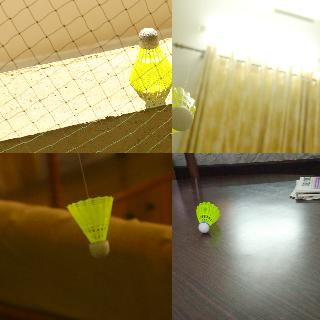shuttlecock: (67, 196, 113, 258), (129, 27, 171, 92), (172, 86, 197, 135), (195, 201, 219, 231)
